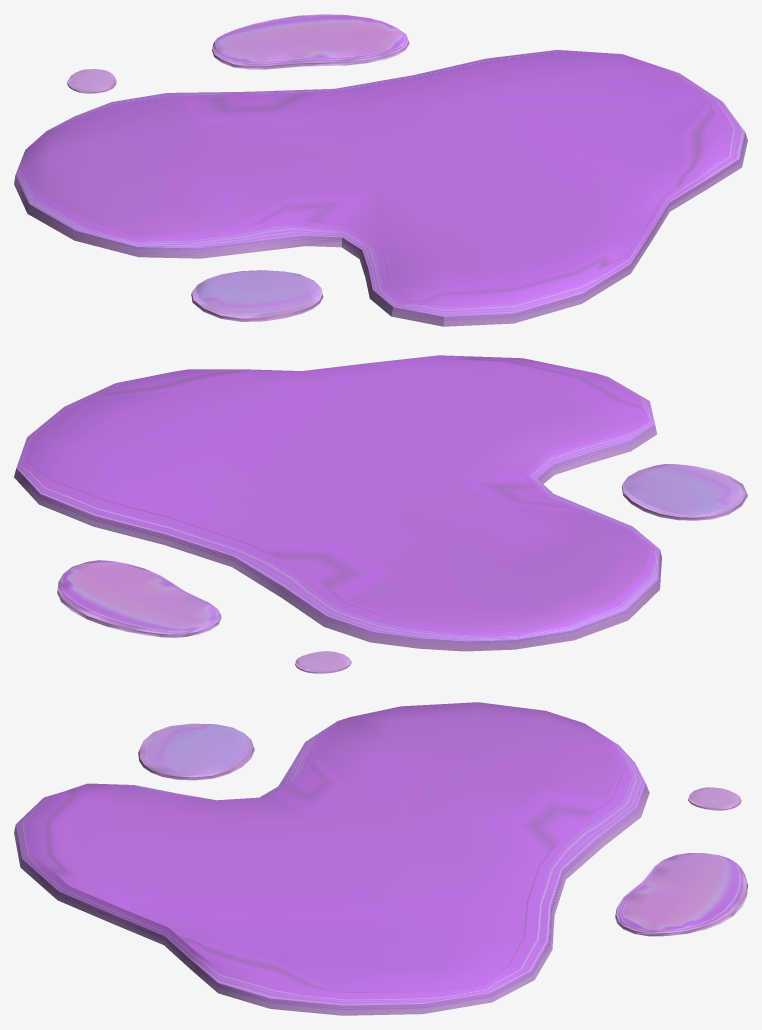
The model's file is StickyPatch.glb.
3 views of the same model, one above another, from view 1: azimuth 30°, elevation 25°; view 2: azimuth 150°, elevation 25°; view 3: azimuth 270°, elevation 25° (orthographic).
Parts seen in each view (by area): view 1: StickyPatch; view 2: StickyPatch; view 3: StickyPatch.
Boxes of the visible parts, x1,y1,x2,y2 form: StickyPatch: [14, 14, 747, 326]; StickyPatch: [14, 355, 747, 673]; StickyPatch: [14, 702, 747, 1015].
Size of the model in its own units: 1.1 by 0.0317 by 1.12.
1 material, 1 textured.
